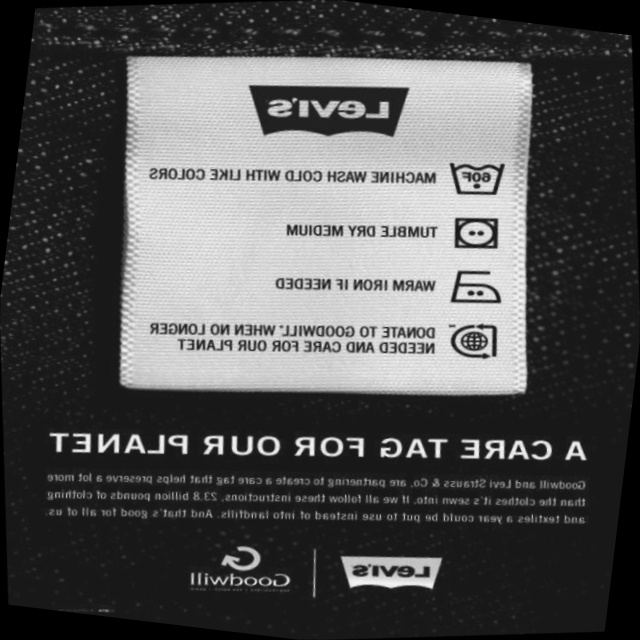30C: (439, 145, 514, 209)
iron_medium: (440, 256, 511, 318)
tumble_dry_medium: (443, 207, 510, 262)
